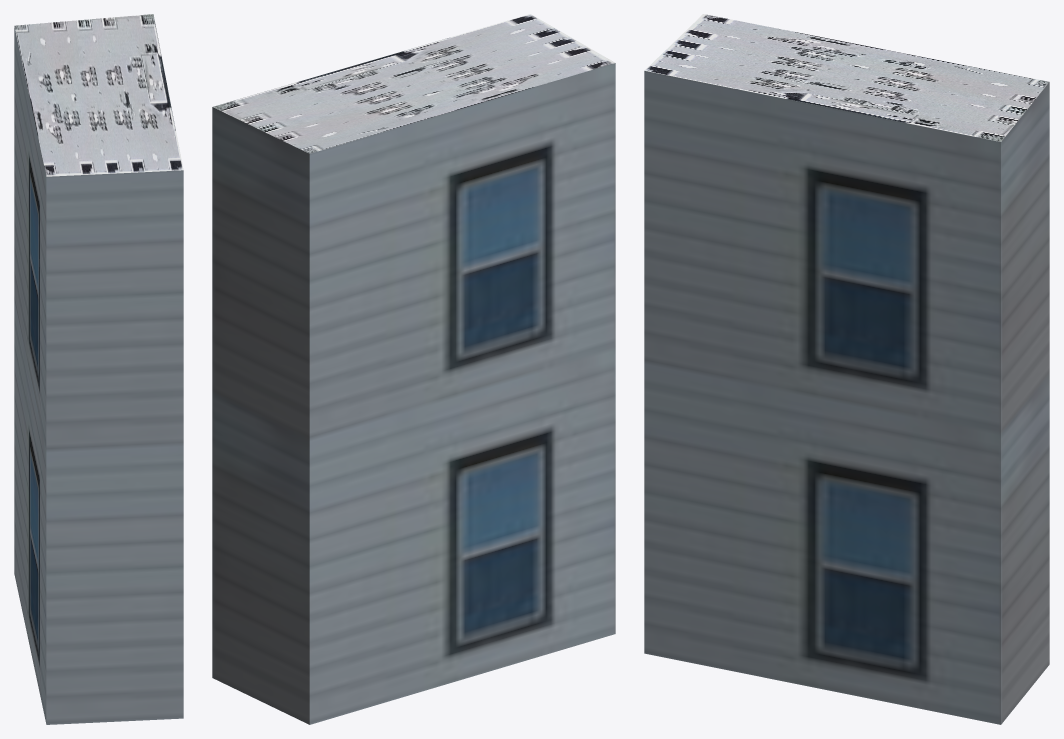
Rendered from ResTex__5173.fbx.
3 renders of one model, left to right at view 1: azimuth 30°, elevation 25°; view 2: azimuth 150°, elevation 25°; view 3: azimuth 270°, elevation 25°, orthographic. The views are drawn at different scales.
Parts seen in each view (by area): view 1: CityEngineMaterial_18_m, CityEngineMaterial_2_m; view 2: CityEngineMaterial_18_m, CityEngineMaterial_2_m; view 3: CityEngineMaterial_18_m, CityEngineMaterial_2_m.
Part boxes in pixels (left/top/right/bottom): CityEngineMaterial_18_m: left=14, top=26, right=183, bottom=724; CityEngineMaterial_2_m: left=14, top=14, right=183, bottom=176; CityEngineMaterial_18_m: left=212, top=63, right=615, bottom=724; CityEngineMaterial_2_m: left=213, top=14, right=614, bottom=153; CityEngineMaterial_18_m: left=644, top=71, right=1049, bottom=724; CityEngineMaterial_2_m: left=644, top=14, right=1049, bottom=141.
Size of the model in its own units: 2.83 by 6 by 3.78.
2 materials, 2 textured.
